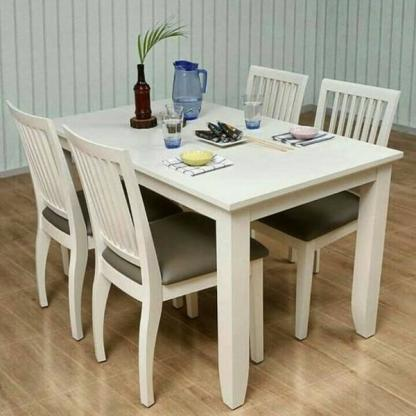Dining Table: (0, 55, 416, 416)
